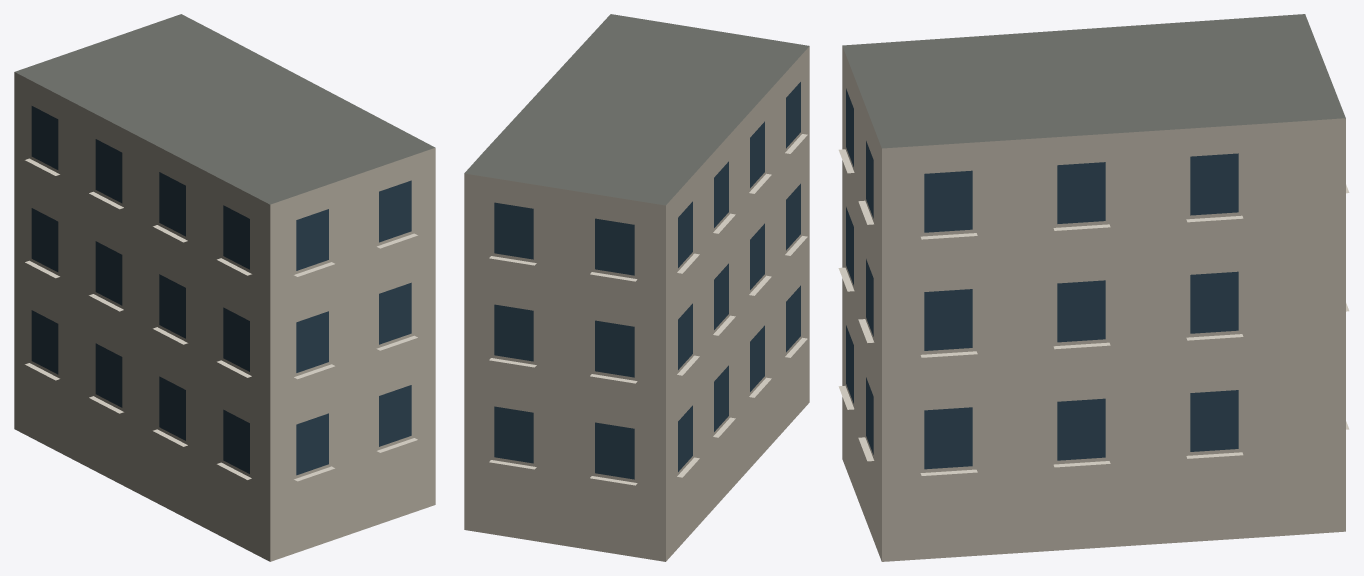
3 renders of one model, left to right at view 1: azimuth 30°, elevation 25°; view 2: azimuth 150°, elevation 25°; view 3: azimuth 270°, elevation 25°, orthographic. The views are drawn at different scales.
Parts seen in each view (by area): view 1: Footprint 0, Inferred window bays, Window sills; view 2: Footprint 0, Inferred window bays, Window sills; view 3: Footprint 0, Inferred window bays, Window sills.
Boxes of the visible parts, x1,y1,x2,y2 form: Footprint 0: (14,14,435,561); Inferred window bays: (31,106,411,475); Window sills: (25,158,417,481); Footprint 0: (464,14,809,561); Inferred window bays: (494,82,800,479); Window sills: (489,134,807,485); Footprint 0: (842,14,1345,561); Inferred window bays: (846,88,1238,469); Window sills: (838,149,1349,475).
Bounding box in the file's own units: 8.27 × 11.57 × 12.96.
